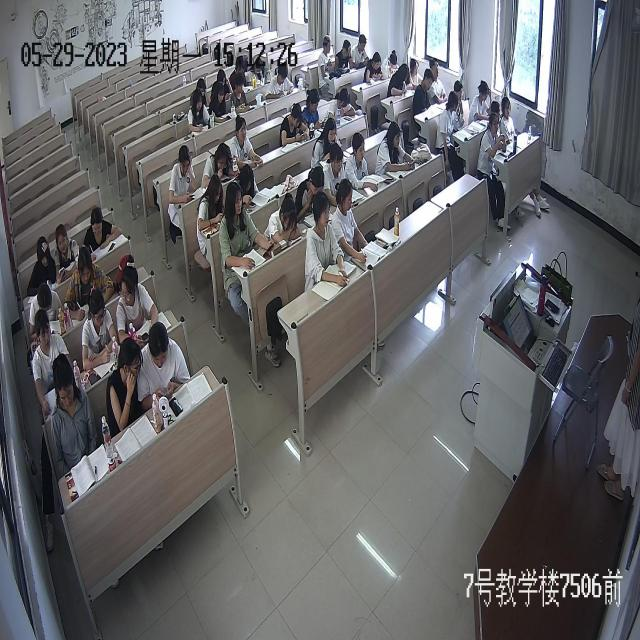distracted: (50, 354, 96, 476), (115, 260, 159, 340), (80, 286, 120, 374), (107, 338, 145, 427), (26, 233, 58, 293), (438, 89, 458, 151), (316, 34, 337, 82), (332, 40, 355, 77)
focused: (33, 308, 77, 406), (304, 194, 348, 286), (334, 178, 369, 266), (228, 113, 263, 171), (81, 206, 122, 255), (347, 134, 378, 193), (195, 176, 224, 239), (30, 281, 63, 334), (323, 142, 349, 202), (296, 162, 324, 216), (480, 112, 505, 172), (313, 121, 342, 169), (413, 68, 437, 118), (468, 79, 492, 123), (500, 95, 520, 147), (230, 71, 252, 116), (268, 64, 294, 102), (428, 61, 448, 109), (388, 62, 412, 101), (406, 57, 428, 96), (364, 49, 386, 87), (247, 59, 268, 91), (452, 78, 466, 126), (353, 35, 373, 68), (383, 47, 402, 78)
sleep: (265, 188, 304, 250)
using_phone: (221, 182, 275, 274), (138, 323, 192, 408), (373, 118, 415, 178), (168, 146, 200, 208), (54, 223, 79, 282), (200, 147, 234, 186), (236, 165, 262, 214), (281, 106, 310, 149), (189, 89, 212, 137), (325, 88, 356, 123), (301, 87, 323, 136), (216, 70, 235, 106)
